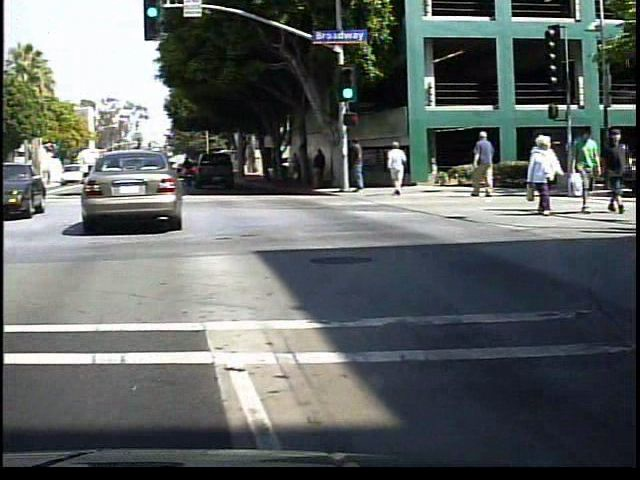person: (529, 135, 569, 216), (572, 127, 604, 216), (606, 126, 635, 213), (471, 131, 504, 199), (388, 140, 414, 199), (352, 136, 373, 200), (317, 145, 336, 191), (296, 151, 315, 190)
